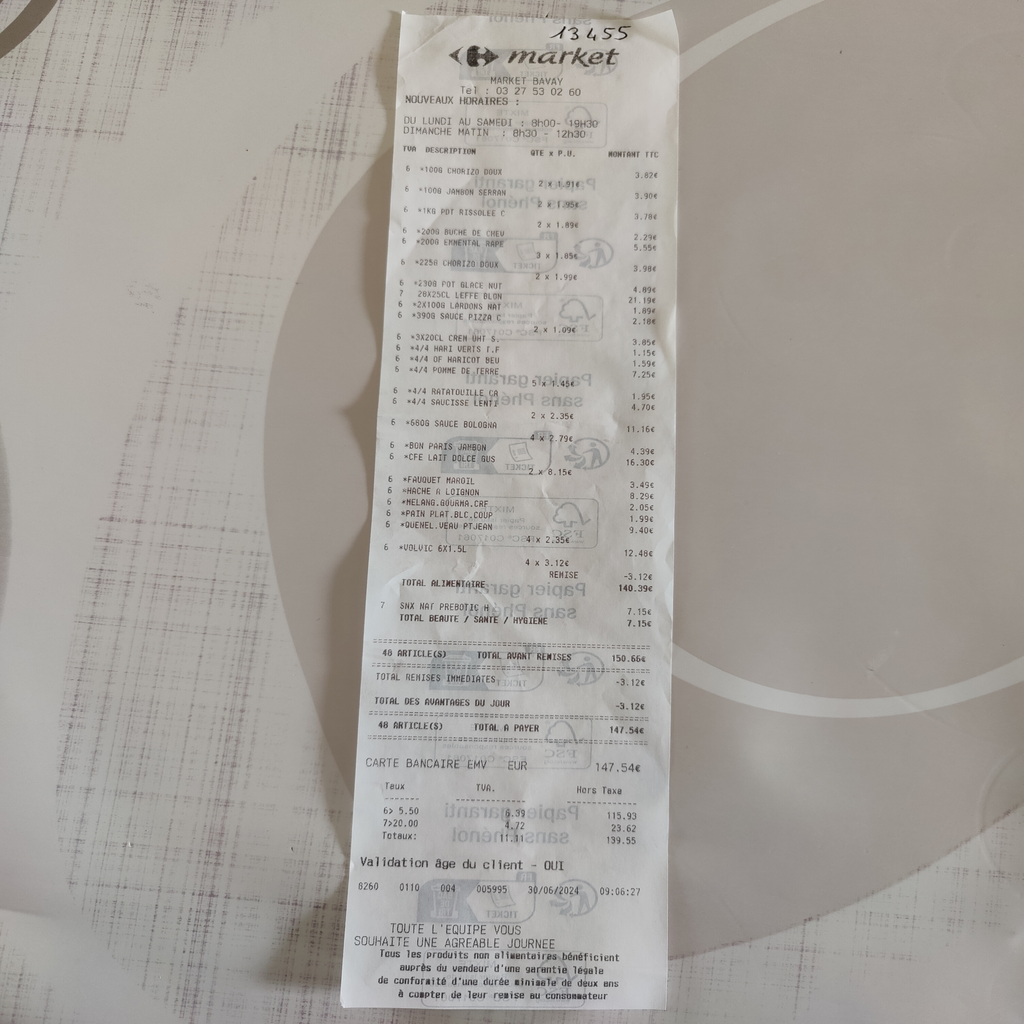recipt: (338, 8, 674, 1014)
